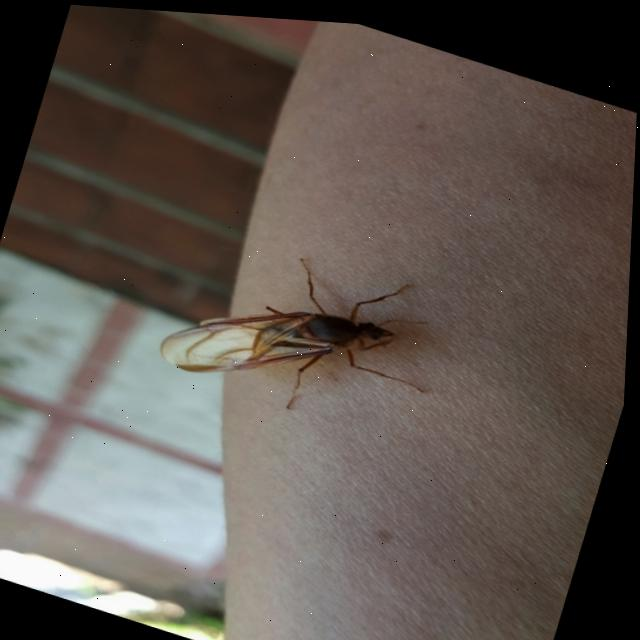Alive-Male-Alate: (154, 212, 458, 443)
